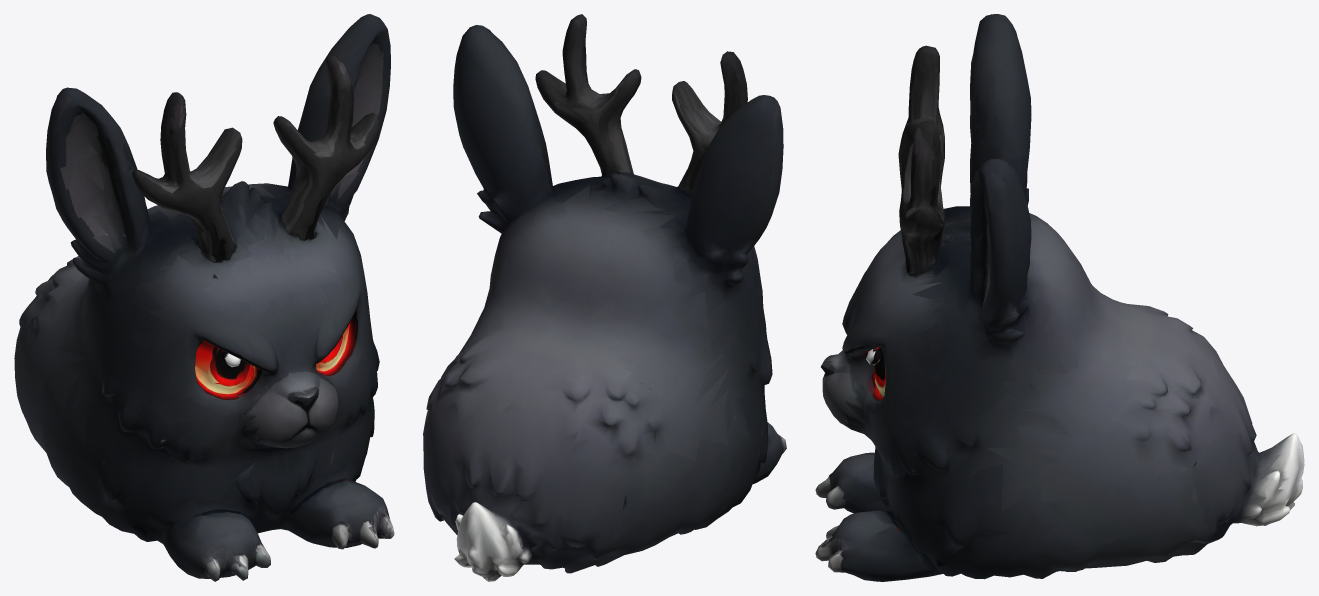
File: jackalope_basic_7500tris.fbx
3 renders of one model, left to right at view 1: azimuth 30°, elevation 25°; view 2: azimuth 150°, elevation 25°; view 3: azimuth 270°, elevation 25°, orthographic. The views are drawn at different scales.
Parts seen in each view (by area): view 1: model_decimated; view 2: model_decimated; view 3: model_decimated.
Part boxes in pixels (box(x1,y1,x2,y2)): model_decimated: box(14, 14, 394, 581); model_decimated: box(423, 14, 786, 581); model_decimated: box(815, 14, 1304, 581).
Size of the model in its own units: 1.46 by 1.91 by 1.84.
1 material, 1 textured.
